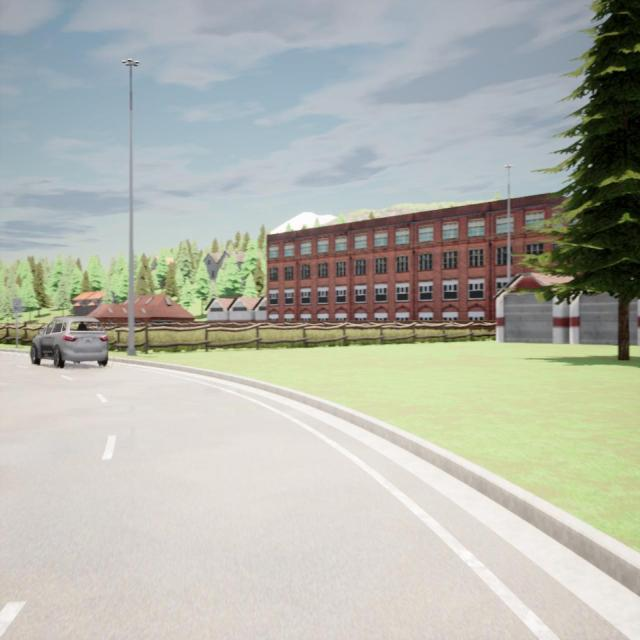Traffic_Signs: (13, 298, 21, 312)
Vehicle: (30, 316, 108, 367)
